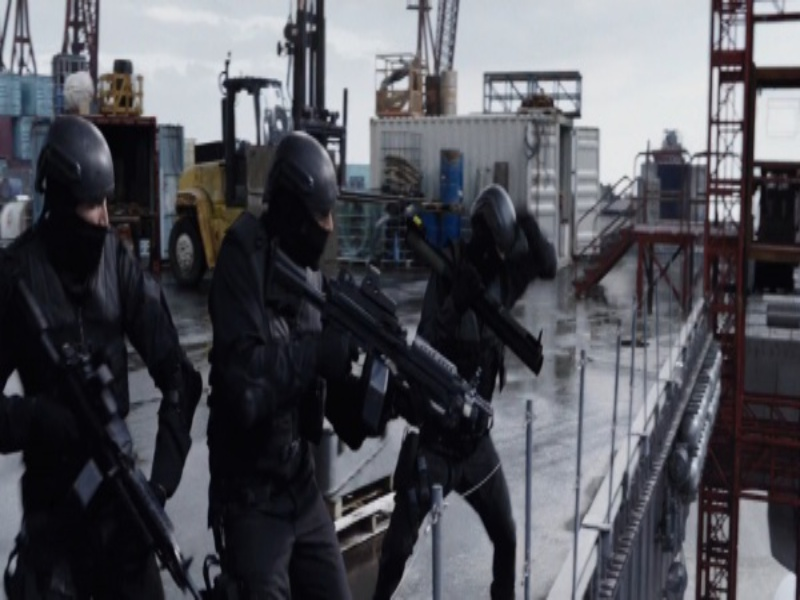person: (209, 133, 411, 593), (1, 114, 182, 590), (376, 188, 553, 600)
weapon: (7, 278, 198, 599), (266, 246, 494, 439), (411, 216, 539, 376)
